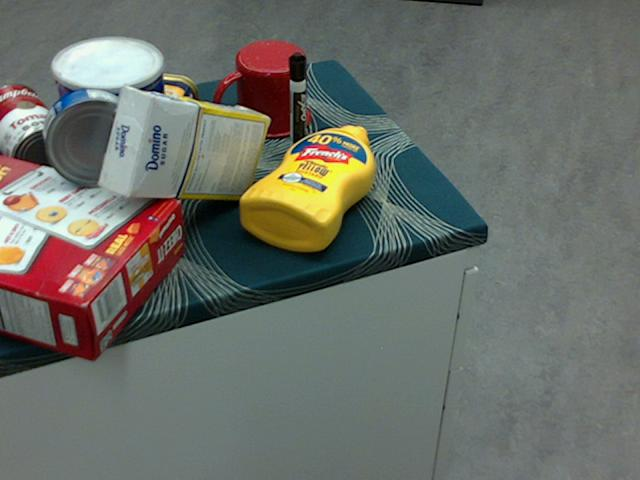cracker_box: (0, 153, 184, 357)
large_marker: (288, 51, 306, 157)
master_chef_can: (53, 38, 169, 210)
mug: (212, 40, 310, 138)
mustard_bottle: (240, 124, 375, 251)
potted_meat_can: (91, 69, 198, 155)
sugar_box: (99, 88, 268, 200)
tomato_soup_can: (0, 81, 74, 182)
tuna_fish_can: (43, 87, 142, 186)
